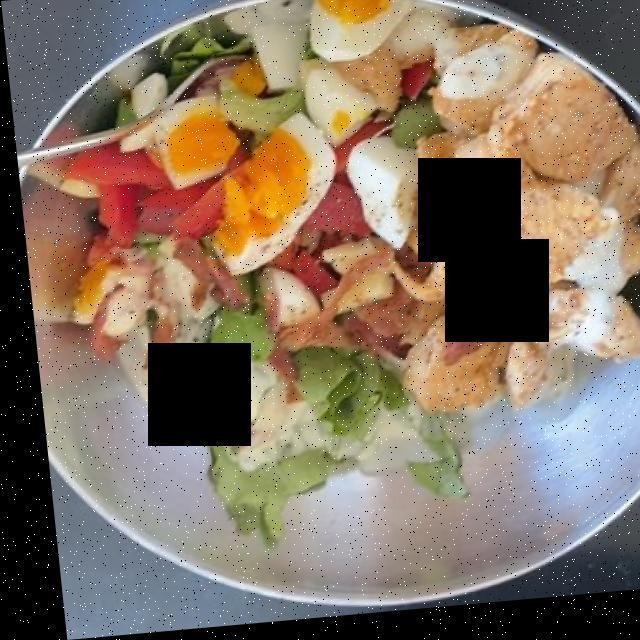egg: (148, 1, 441, 296)
tomato: (67, 116, 375, 292)
